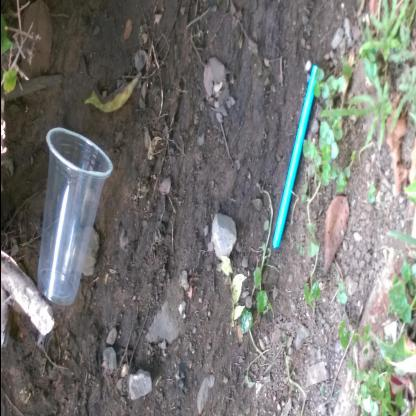plastik: (37, 126, 114, 308), (273, 65, 319, 251)
